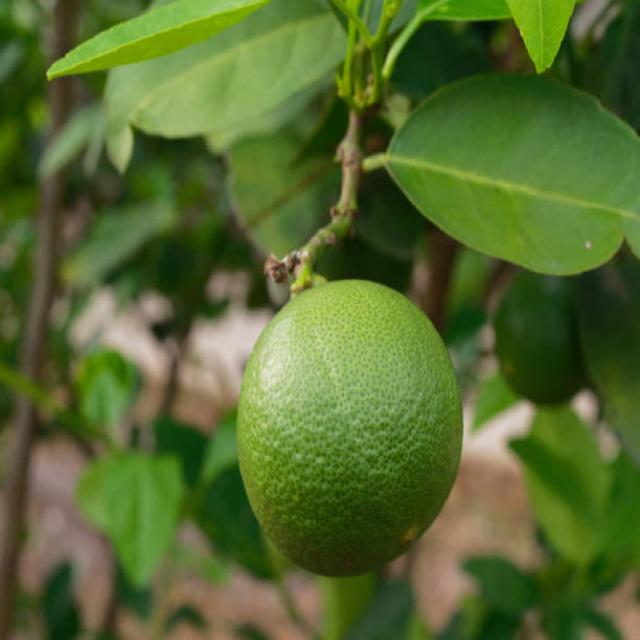Unripe: (233, 275, 461, 579)
